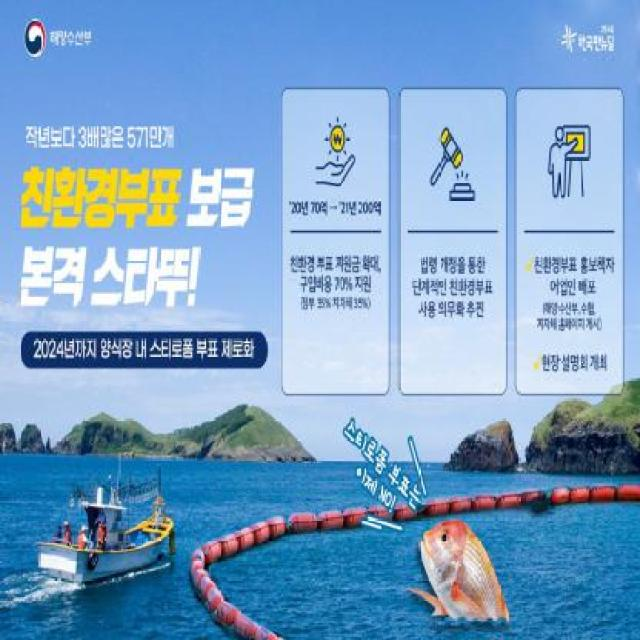a: (294, 504, 333, 541), (223, 591, 251, 640), (436, 487, 471, 521), (191, 548, 217, 592), (240, 519, 268, 555), (610, 480, 640, 511), (488, 487, 514, 520), (533, 490, 558, 521), (576, 484, 599, 512)
